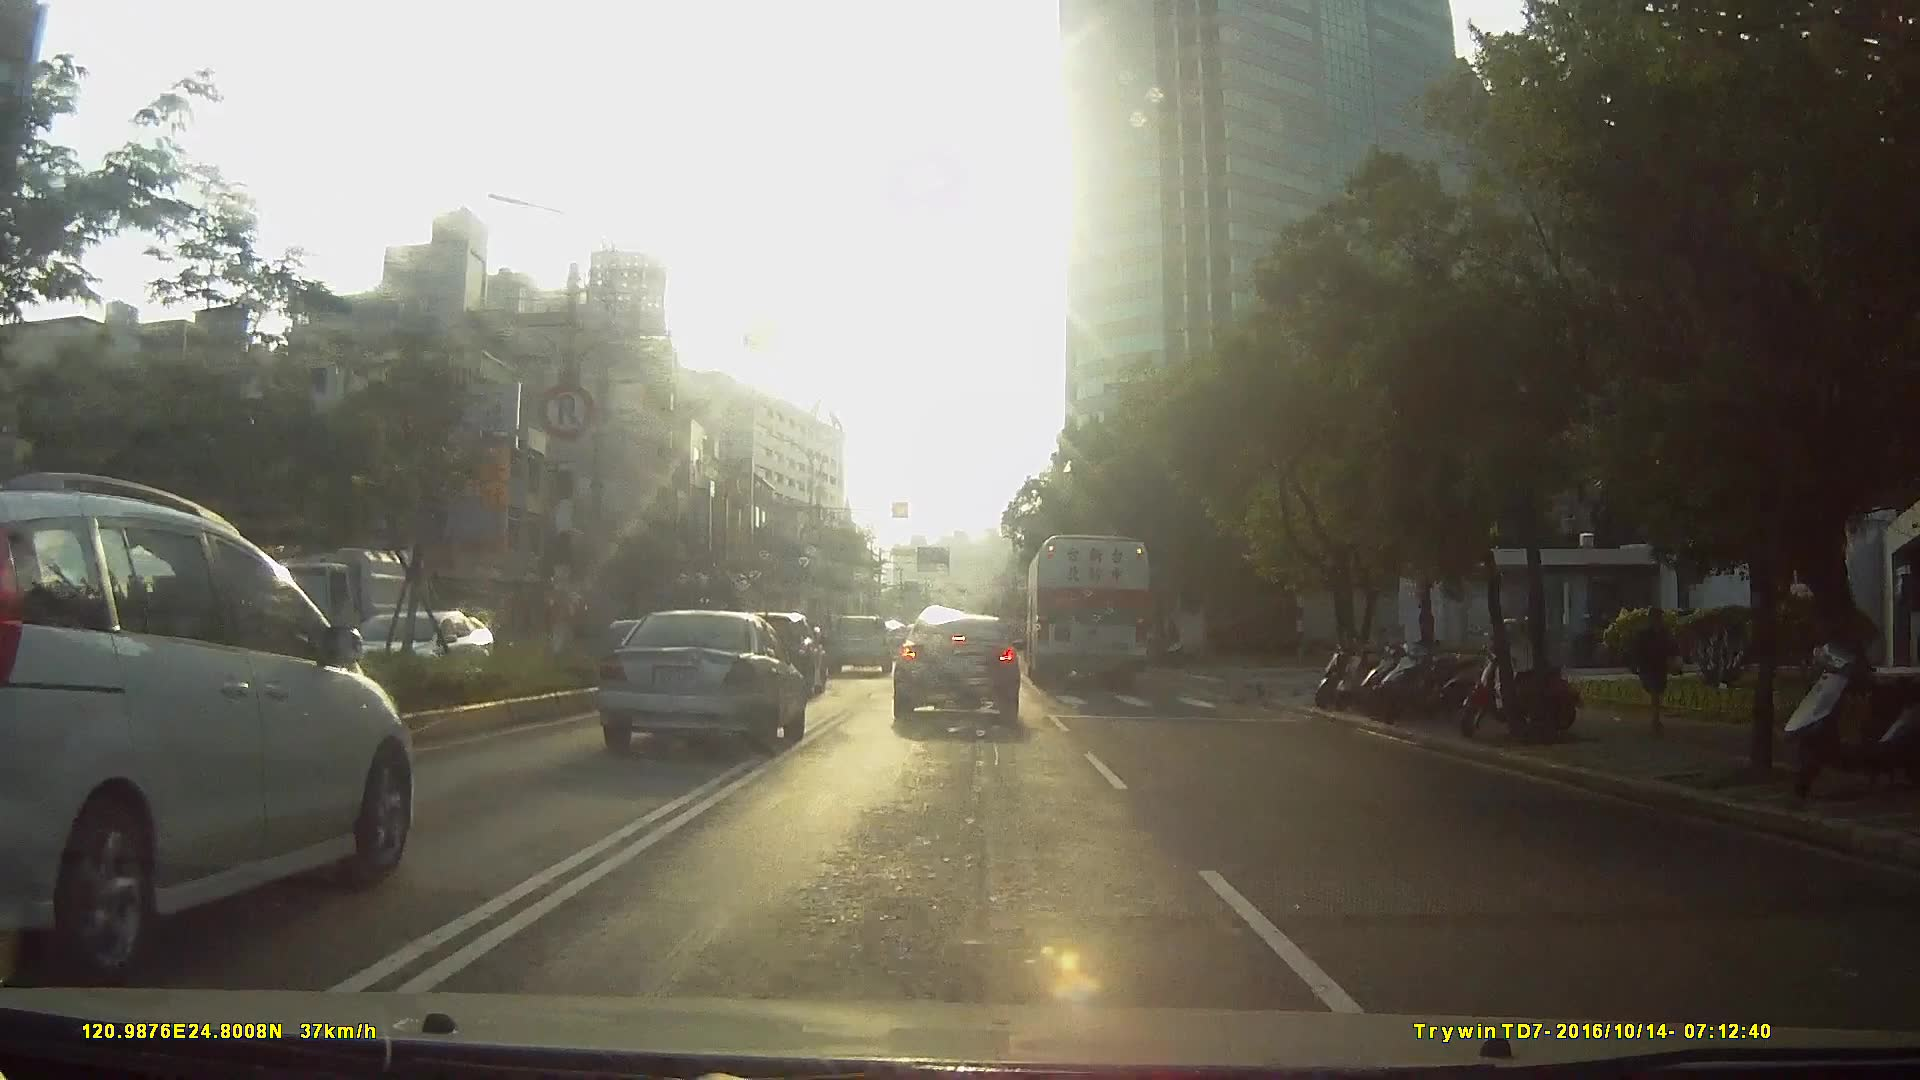pedestrian: (1635, 601, 1685, 726)
vehicle: (1, 472, 425, 973), (250, 556, 684, 868), (586, 599, 802, 748), (1022, 528, 1150, 688), (233, 539, 399, 656), (890, 603, 1020, 723), (347, 603, 496, 699), (823, 607, 891, 672)
